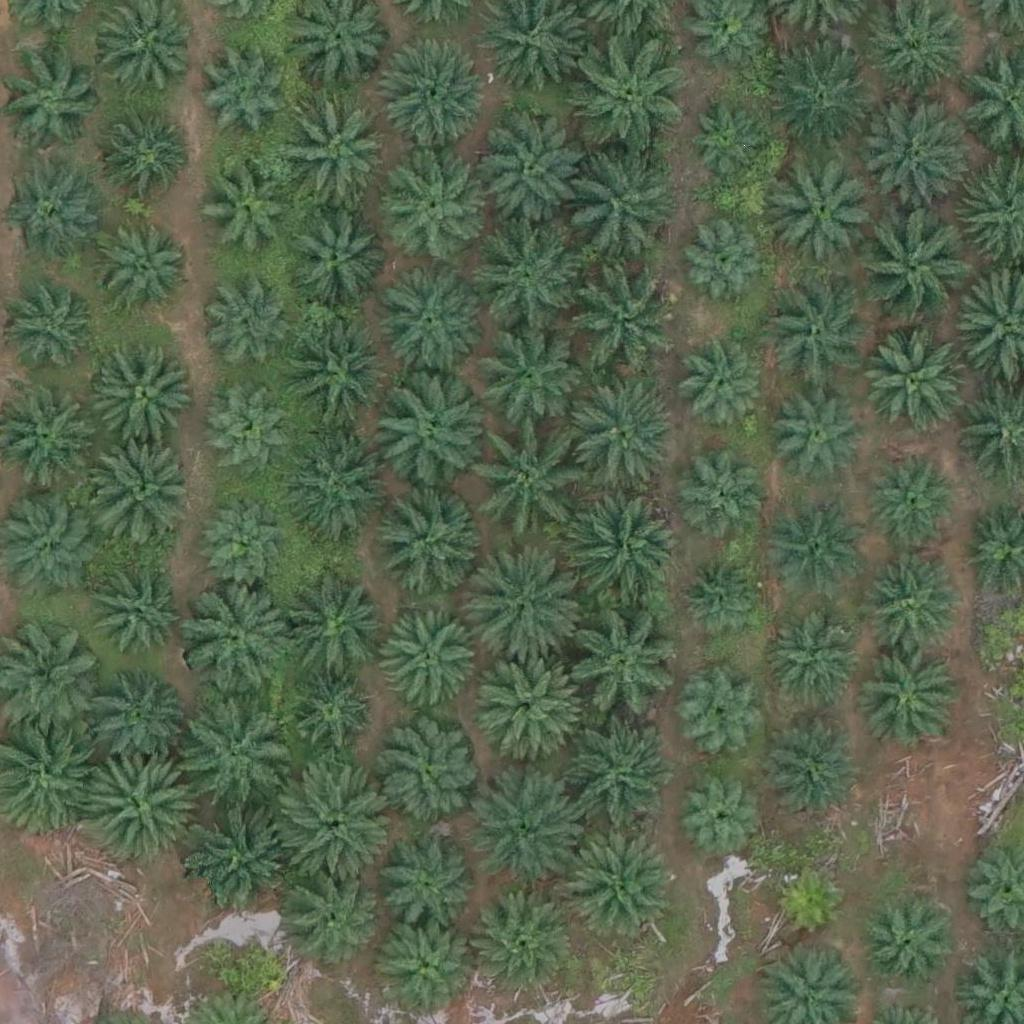Kelapa_Sawit: (472, 554, 585, 668), (570, 376, 683, 489), (566, 495, 679, 608), (559, 611, 672, 724), (366, 380, 479, 493), (174, 685, 287, 798), (187, 802, 300, 915), (81, 749, 194, 862), (471, 113, 584, 226), (377, 39, 490, 152), (283, 101, 396, 214), (558, 726, 670, 840), (562, 830, 674, 944), (464, 887, 576, 1001), (177, 583, 289, 697), (867, 325, 979, 439), (572, 37, 684, 151), (281, 315, 393, 429), (472, 776, 584, 889), (472, 649, 584, 762), (479, 424, 591, 537), (364, 485, 476, 598), (282, 433, 394, 546), (279, 573, 391, 686), (279, 761, 391, 874), (90, 436, 202, 549), (858, 204, 970, 317), (854, 95, 966, 208), (767, 36, 879, 149), (768, 155, 880, 268), (757, 276, 869, 389), (563, 147, 675, 260), (568, 257, 680, 370), (470, 312, 582, 425), (469, 221, 581, 334), (376, 268, 488, 381), (85, 337, 197, 450), (862, 557, 962, 658), (858, 649, 958, 750), (859, 889, 959, 990), (763, 605, 863, 706), (764, 714, 864, 815), (378, 611, 478, 712), (378, 723, 478, 824), (380, 832, 480, 933), (275, 871, 375, 972), (88, 668, 188, 769), (92, 555, 192, 656), (384, 163, 484, 264), (280, 207, 380, 308), (90, 215, 190, 316), (2, 284, 102, 385), (770, 379, 870, 479), (765, 508, 865, 608), (380, 918, 480, 1018), (767, 855, 855, 943), (868, 453, 956, 541), (676, 771, 764, 859), (680, 663, 768, 751), (283, 669, 371, 757), (200, 499, 288, 587), (203, 164, 291, 252), (208, 284, 296, 372), (96, 109, 184, 197), (678, 555, 765, 643), (678, 450, 765, 538), (681, 338, 768, 426), (681, 214, 768, 302), (201, 54, 288, 142), (203, 389, 290, 477), (690, 104, 765, 180)
